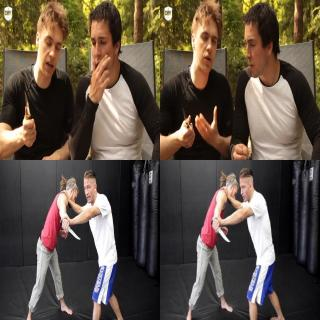knife: (21, 87, 37, 135), (210, 218, 232, 244), (178, 106, 194, 140), (59, 218, 81, 242)
